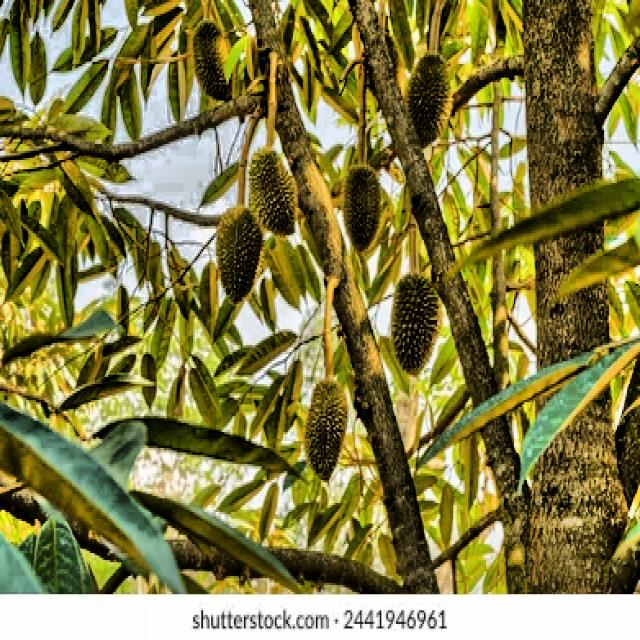arvore: (463, 0, 640, 600)
